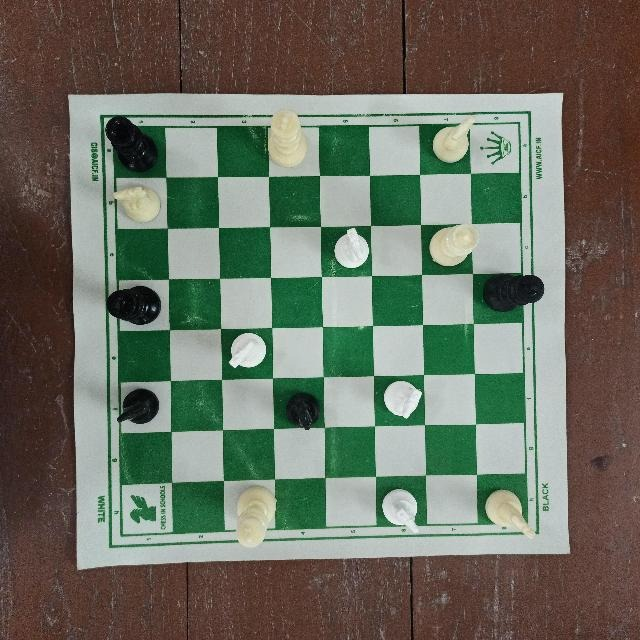black-king: (99, 115, 164, 175), (102, 283, 170, 329), (480, 268, 546, 313)
black-knight: (115, 384, 161, 432), (282, 391, 330, 433)
white-king: (232, 476, 278, 553), (266, 106, 310, 166)
white-knight: (486, 486, 540, 538), (377, 485, 424, 539), (221, 329, 270, 378), (431, 114, 475, 168), (110, 180, 162, 224), (319, 227, 371, 268), (376, 381, 424, 422)
white-queen: (427, 222, 479, 271)
